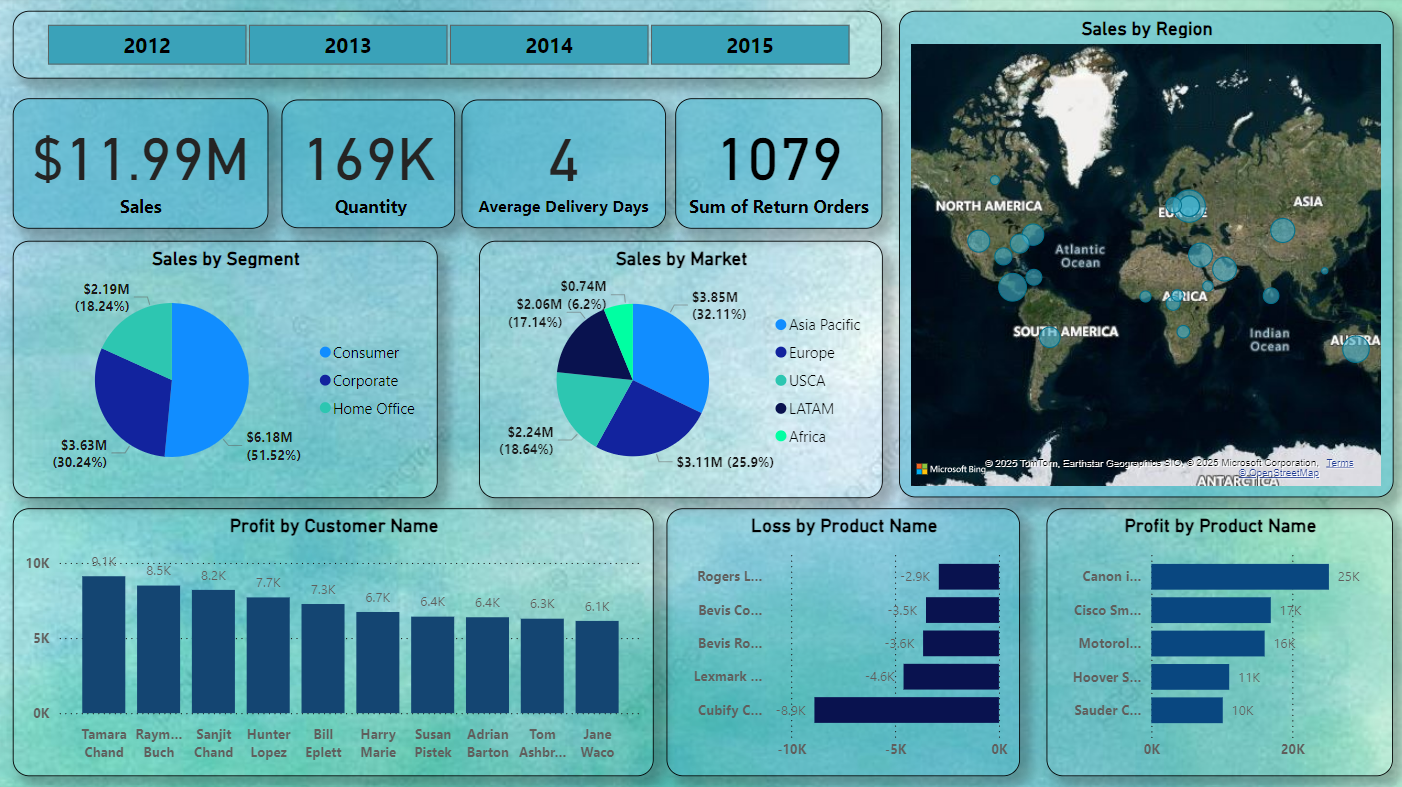

What the dashboard file says about the page in this screenshot:
{"tool":"powerbi","page":{"name":"Page 1","canvas":[1280,720],"ordinal":0},"visuals":[{"type":"card","fields":{"Values":["Orders.Sales"]},"box":[12.3,91.9,231.9,118],"z":0},{"type":"card","fields":{"Values":["Orders.Quantity"]},"box":[256.6,93.3,157.8,116.6],"z":1},{"type":"card","fields":{"Values":["Orders.Delivery Days"]},"box":[419.9,93.3,185.2,116.6],"z":2},{"type":"slicer","fields":{"Values":["Orders.Year"]},"box":[12.3,12.3,789,61.7],"z":3},{"type":"card","fields":{"Values":["Returns.Return Orders"]},"box":[613.4,91.9,188,118],"z":4},{"type":"map","fields":{"Category":["Orders.Region"],"Size":["Orders.Sales"]},"box":[816.5,12.3,448.7,441.9],"z":5},{"type":"barChart","fields":{"Category":["Orders.Product Name"],"Y":["Orders.Profit"]},"box":[950.9,463.8,314.2,242.9],"z":6},{"type":"barChart","fields":{"Category":["Orders.Product Name"],"Y":["Orders.Profit"]},"box":[605.1,463.8,321.1,242.9],"z":7},{"type":"pieChart","fields":{"Category":["Orders.Segment"],"Y":["Orders.Sales"]},"box":[12.3,220.9,385.6,233.3],"z":8},{"type":"pieChart","fields":{"Category":["Orders.Market"],"Y":["Orders.Sales"]},"box":[435.5,221.2,366.4,233.6],"z":9},{"type":"columnChart","fields":{"Category":["Orders.Customer Name"],"Y":["Orders.Profit"]},"box":[12.3,463.8,581.8,242.9],"z":10}]}

Visuals, with their boxes in screenshot pixels (x1, y1, x2, y2), scaled from the page's 1280x720 canvas onto the 1402x787 screenshot:
card - Orders.Sales: left=13, top=100, right=267, bottom=229
card - Orders.Quantity: left=281, top=102, right=454, bottom=229
card - Orders.Delivery Days: left=460, top=102, right=663, bottom=229
slicer - Orders.Year: left=13, top=13, right=878, bottom=81
card - Returns.Return Orders: left=672, top=100, right=878, bottom=229
map - Orders.Region x Orders.Sales: left=894, top=13, right=1386, bottom=496
barChart - Orders.Product Name x Orders.Profit: left=1042, top=507, right=1386, bottom=772
barChart - Orders.Product Name x Orders.Profit: left=663, top=507, right=1014, bottom=772
pieChart - Orders.Segment x Orders.Sales: left=13, top=241, right=436, bottom=496
pieChart - Orders.Market x Orders.Sales: left=477, top=242, right=878, bottom=497
columnChart - Orders.Customer Name x Orders.Profit: left=13, top=507, right=651, bottom=772
